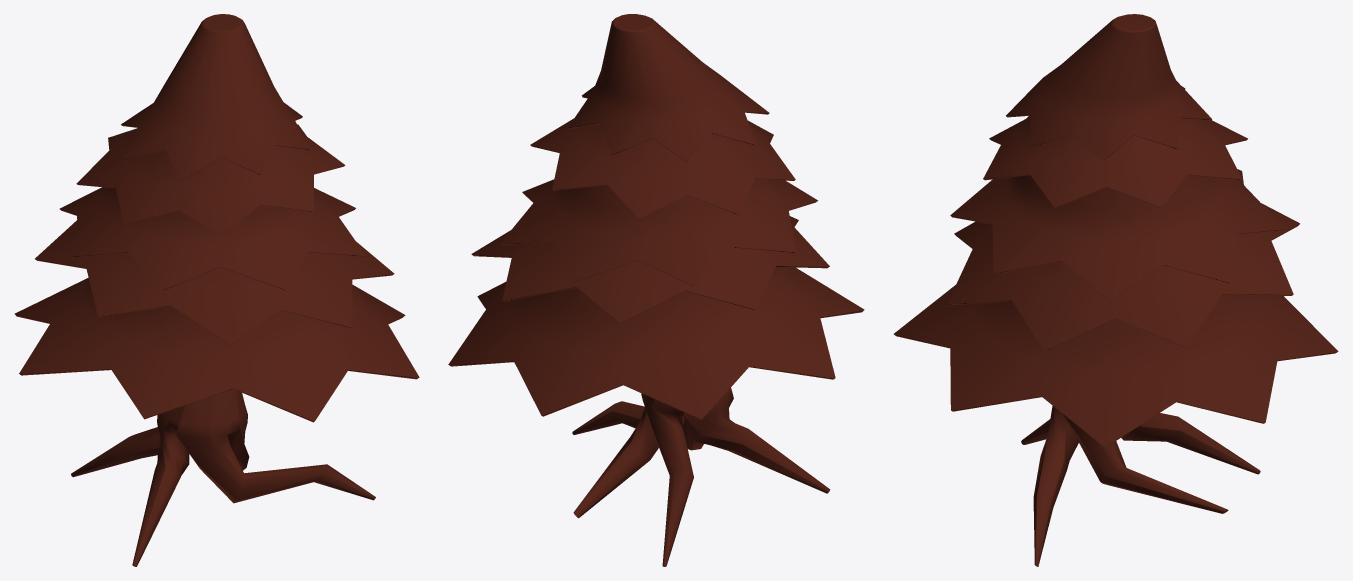
File: Mesh_Hikari_Tree02.FBX
3 renders of one model, left to right at view 1: azimuth 30°, elevation 25°; view 2: azimuth 150°, elevation 25°; view 3: azimuth 270°, elevation 25°, orthographic. The views are drawn at different scales.
Visible parts, largest first — view 1: Mesh_HikariTree02; view 2: Mesh_HikariTree02; view 3: Mesh_HikariTree02.
Boxes of the visible parts, x1,y1,x2,y2 form: Mesh_HikariTree02: (14,14,419,566); Mesh_HikariTree02: (448,14,864,566); Mesh_HikariTree02: (894,14,1338,566).
Bounding box in the file's own units: 7.35 × 9.01 × 7.29.
